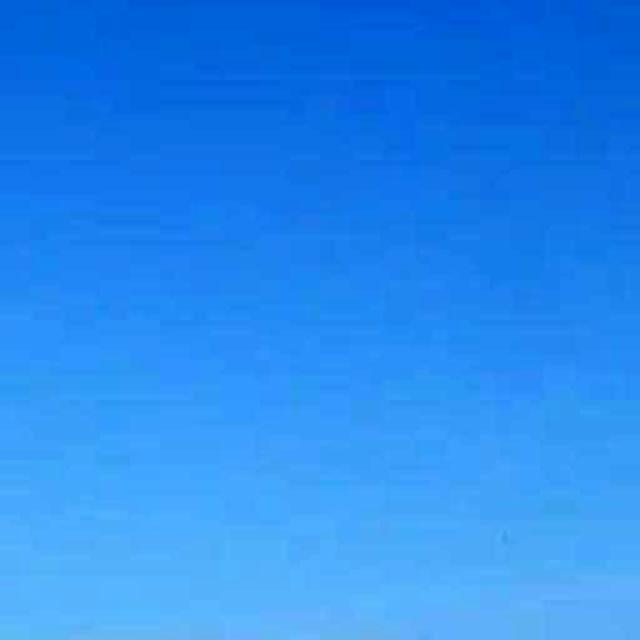drone: (476, 499, 542, 579)
